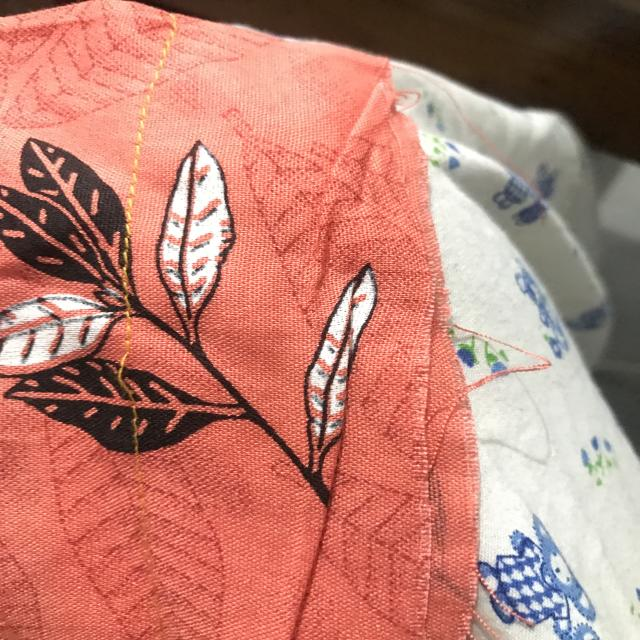good: (116, 149, 146, 238)
skip: (106, 343, 151, 421)
